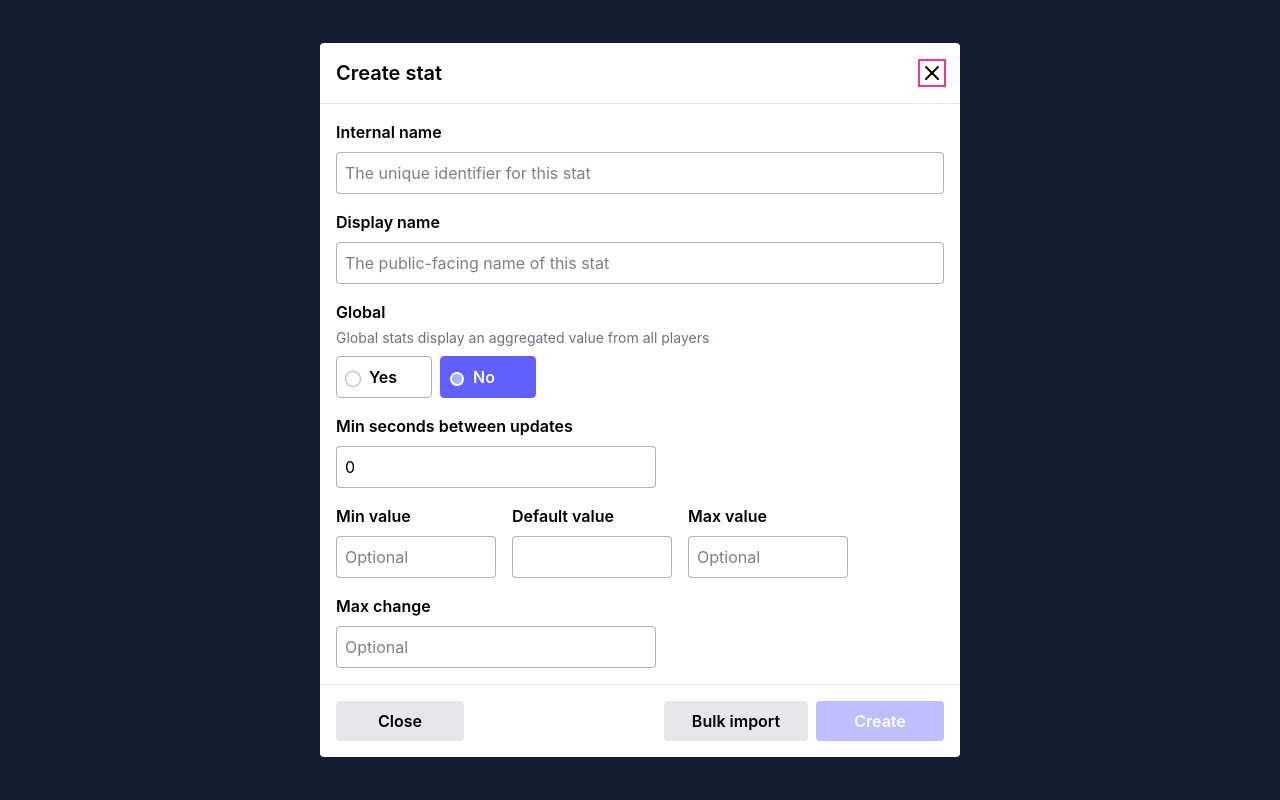
Test: <StatDetails /> › should display an error if the default value is less than the min value
The image size is (1280, 800).
Type "60" into the number field labelled "Min value" at (416, 557), box [336, 536, 496, 578]
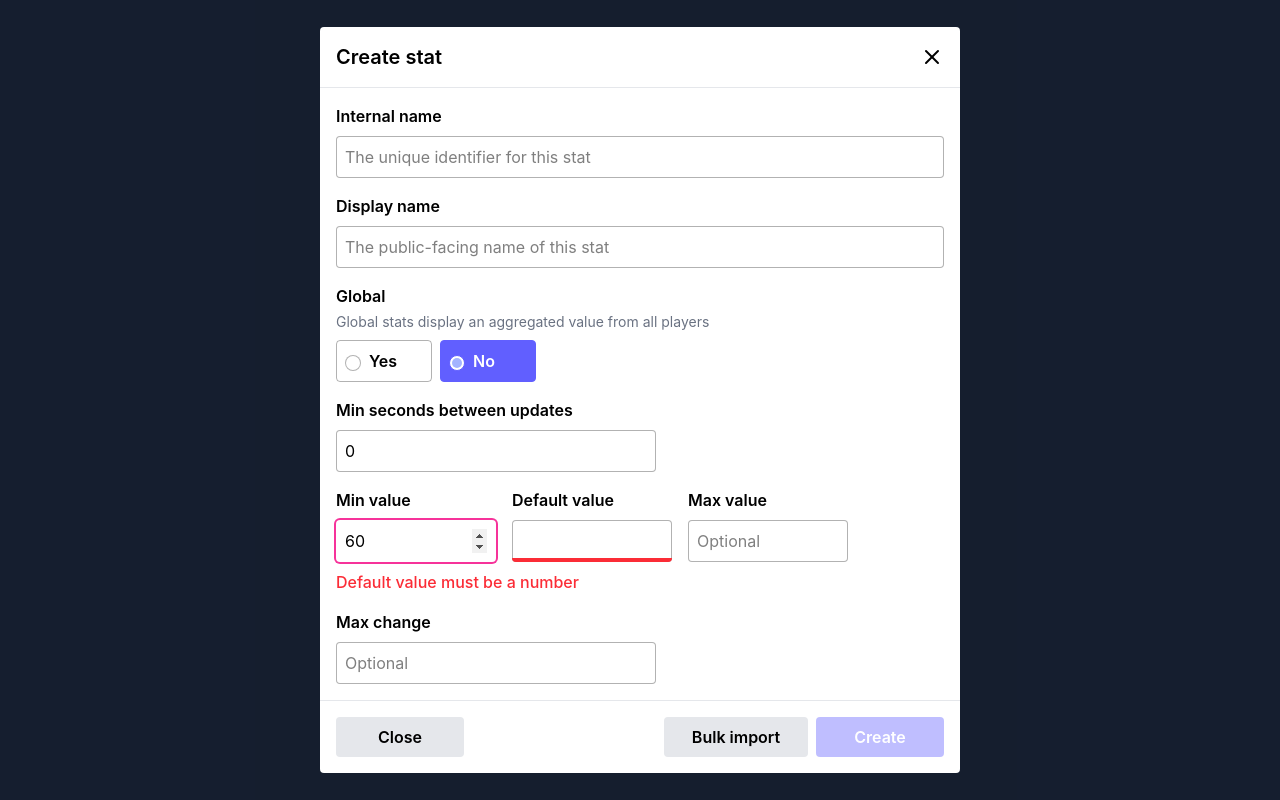
Type "52" into the number field labelled "Default value" at (592, 541), box [512, 520, 672, 562]
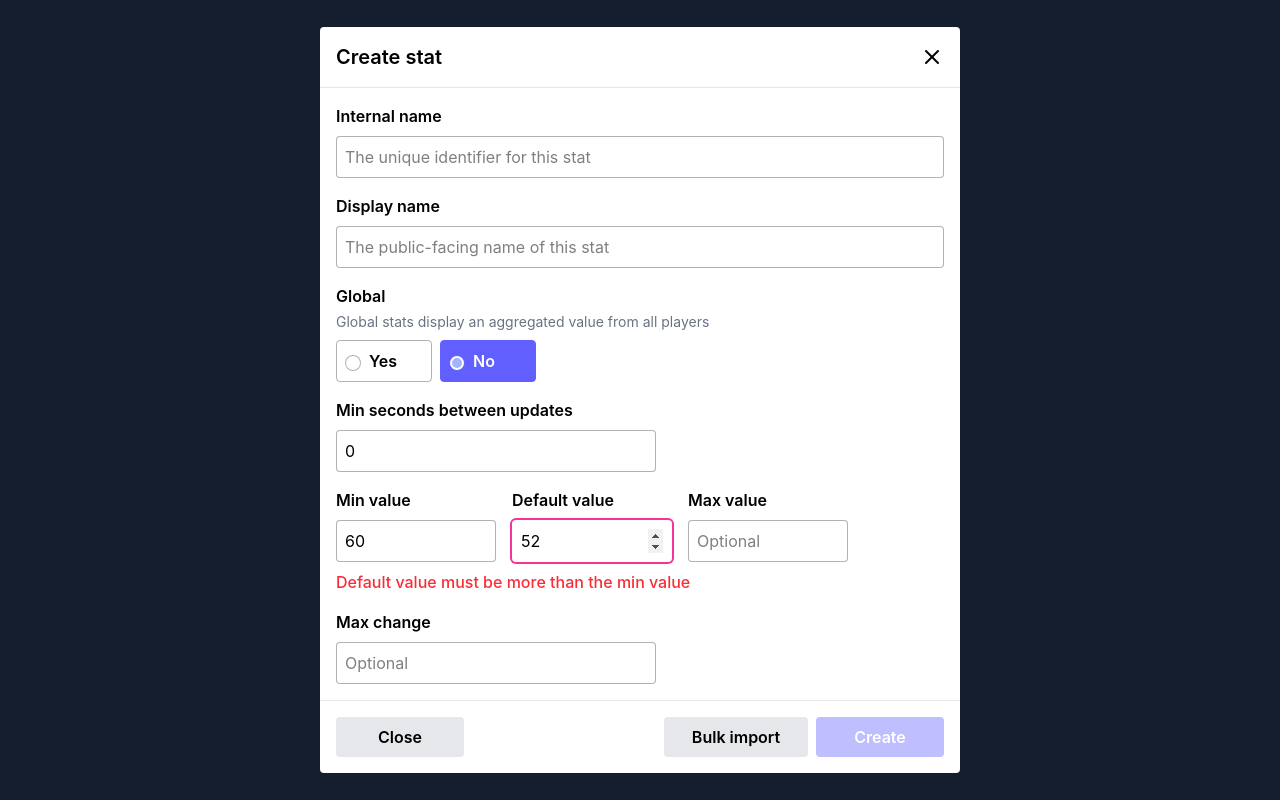
expect the text "Default value must be more than the min value" is shown: met, box [336, 572, 690, 592]
